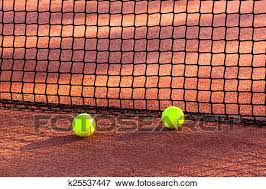tennis_ball: (72, 113, 95, 137), (161, 106, 184, 129)
